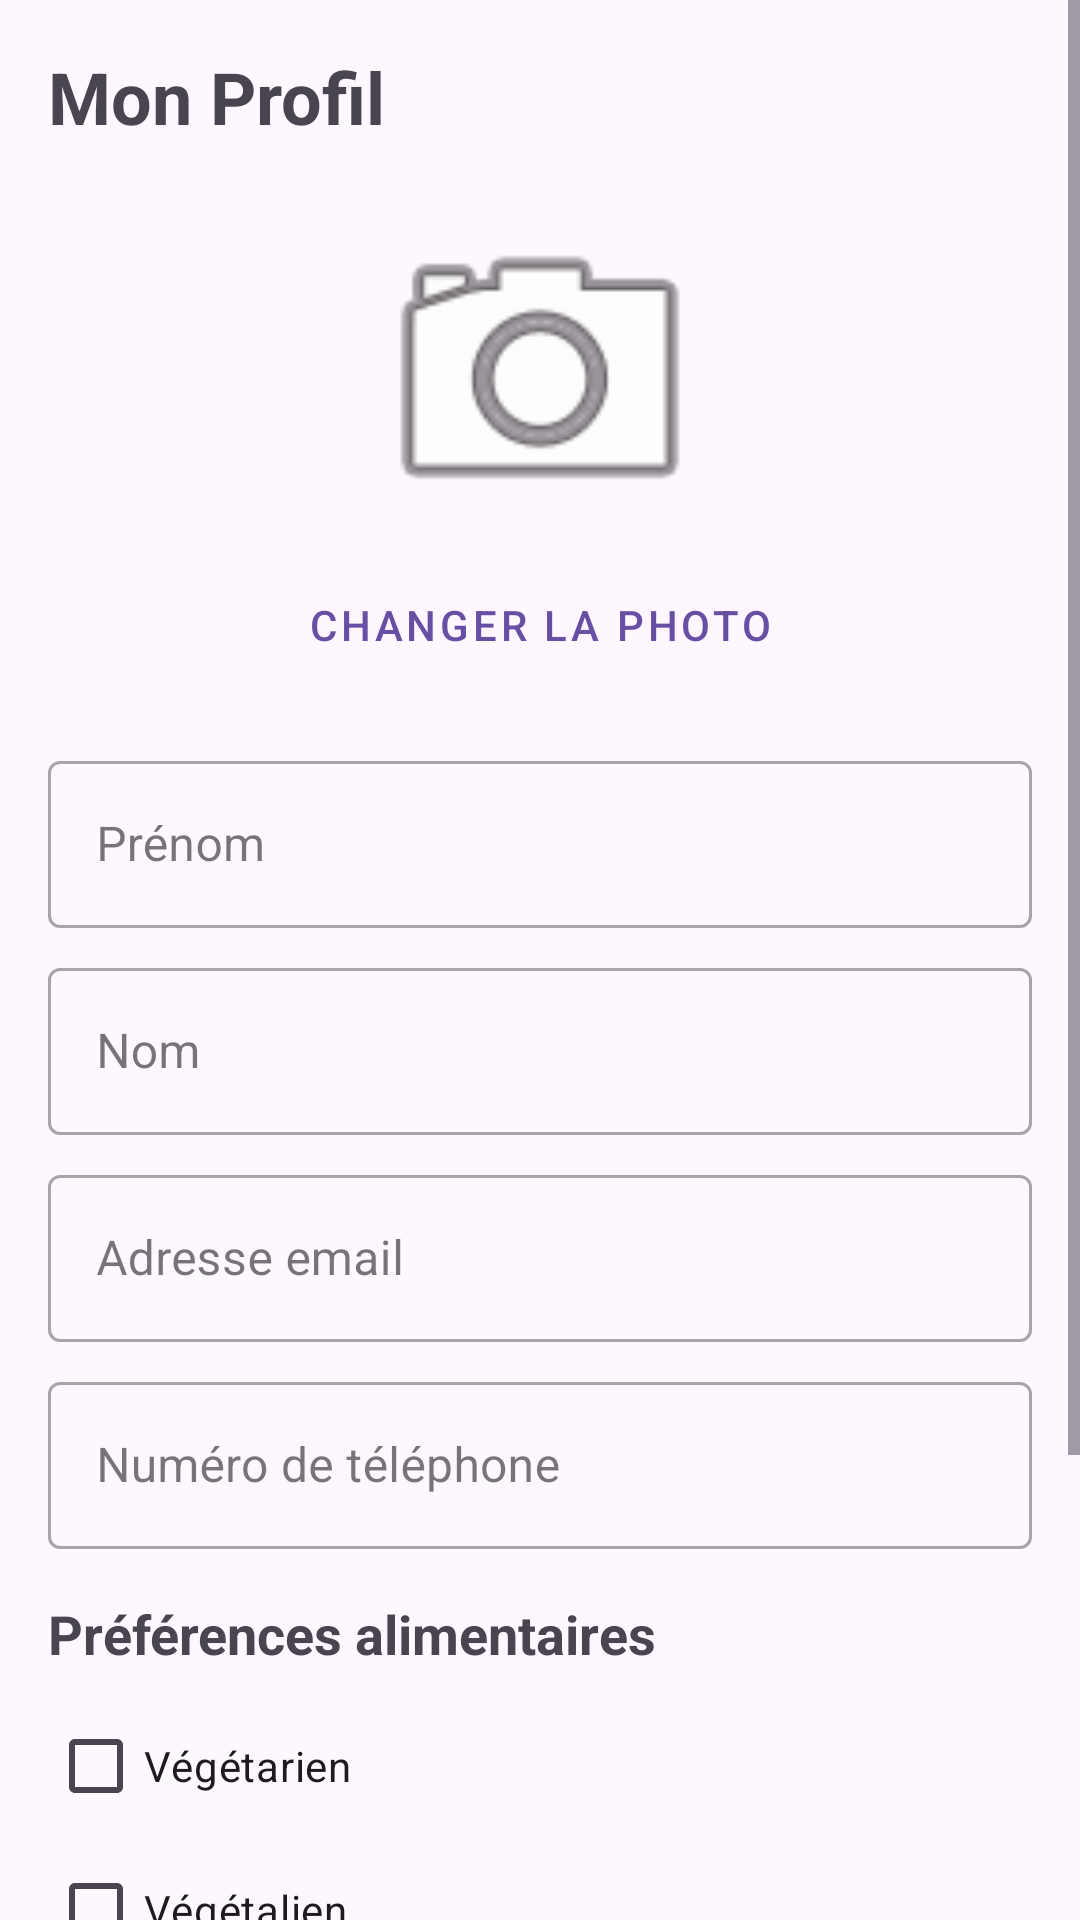

Screen size 1080x1920. Icon name, then its center in pixels as (x=x, y=y):
camera: (x=540, y=367)
